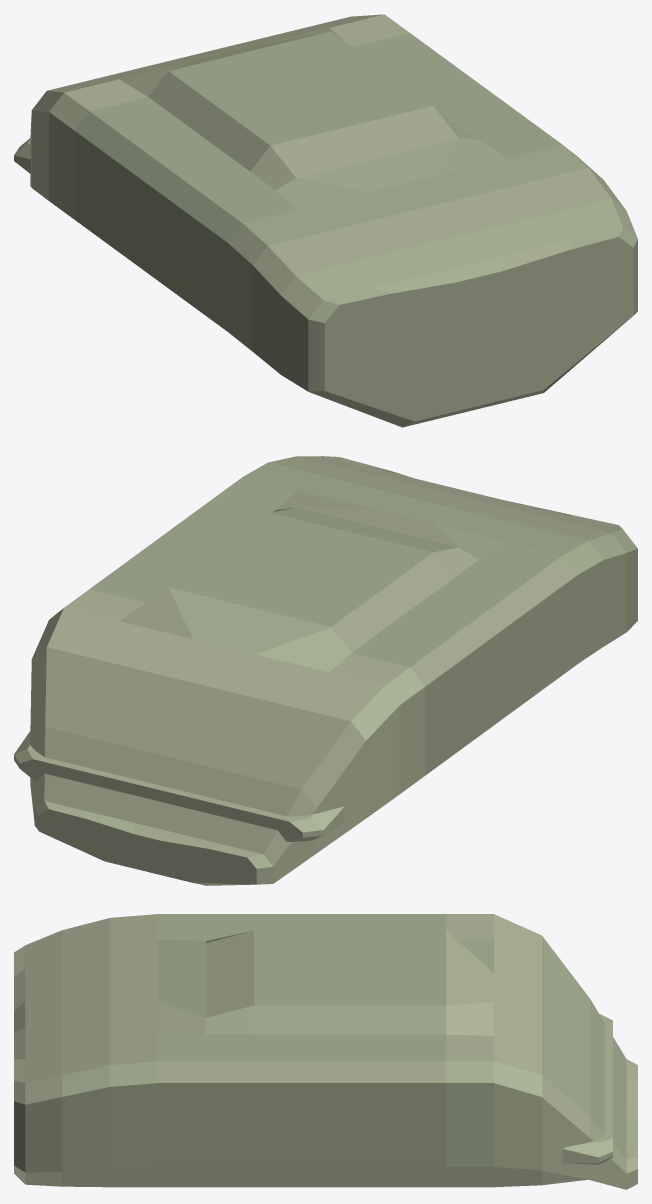
File: hartmann_heavy_a.glb
3 views of the same model, one above another, from view 1: azimuth 30°, elevation 25°; view 2: azimuth 150°, elevation 25°; view 3: azimuth 270°, elevation 25° (orthographic). The views are drawn at different scales.
Parts seen in each view (by area): view 1: hartmann_heavy_a; view 2: hartmann_heavy_a; view 3: hartmann_heavy_a.
Part boxes in pixels (box(x1,y1,x2,y2)): hartmann_heavy_a: box(14, 14, 637, 427); hartmann_heavy_a: box(14, 456, 637, 885); hartmann_heavy_a: box(14, 914, 637, 1189).
Bounding box in the file's own units: 4.4 × 2.35 × 7.2.
